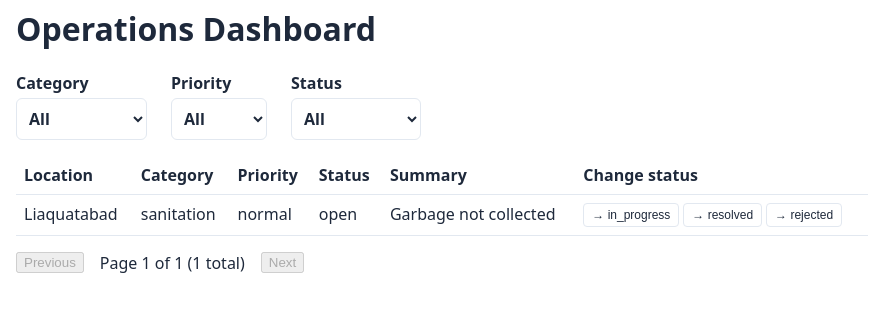
Test case: DashboardPage › surfaces the server's 409 message verbatim when a status change is rejected
Click the button "→ resolved": (723, 215) [683,203,762,227]
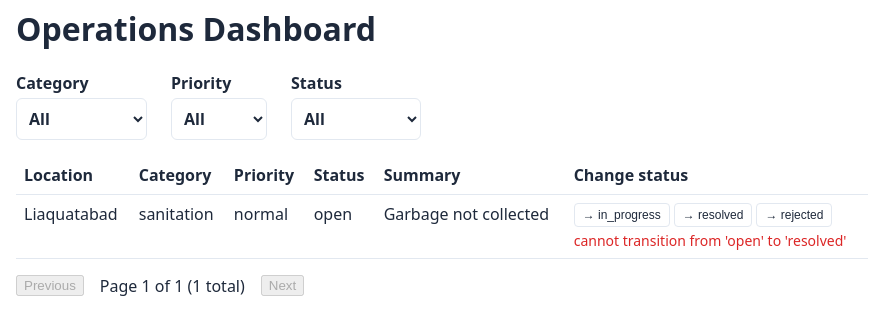
Expected: the message reads "cannot transition from 'open' to 'resolved'", [574,231,846,250]
